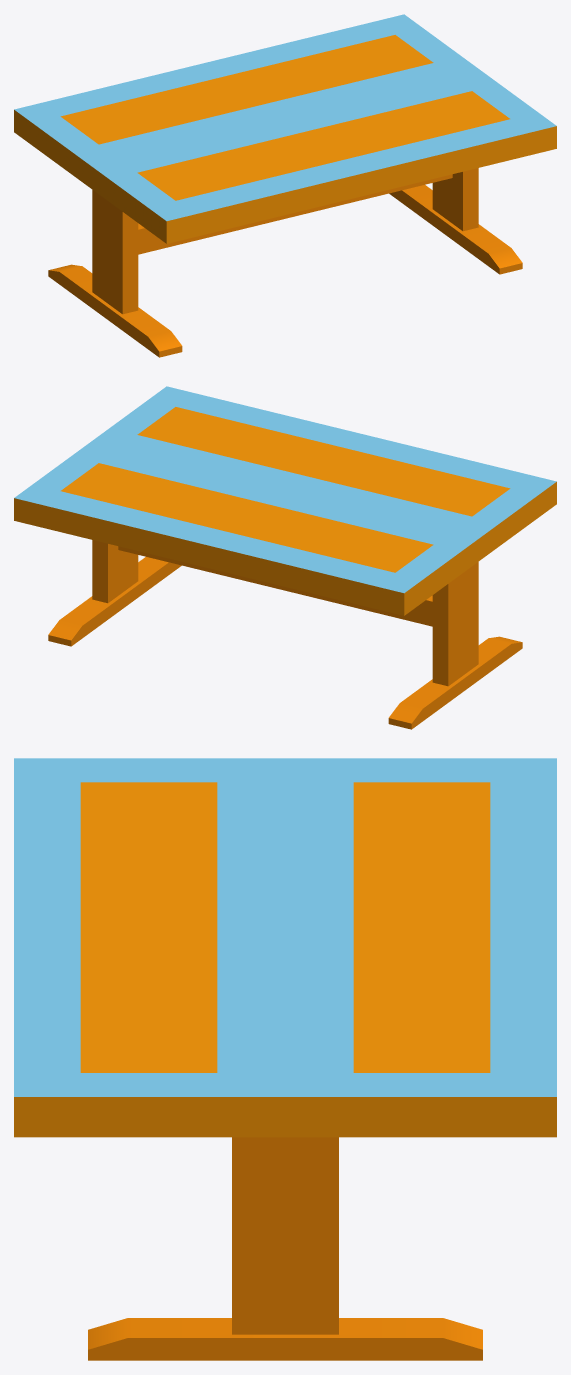
The model's file is Small_Table_lv3.fbx.
3 renders of one model, top to bottom at view 1: azimuth 30°, elevation 25°; view 2: azimuth 150°, elevation 25°; view 3: azimuth 270°, elevation 25°, orthographic. The views are drawn at different scales.
Visible parts, largest first — view 1: Small_Table_lv3; view 2: Small_Table_lv3; view 3: Small_Table_lv3.
Part boxes in pixels (left/top/right/bottom): Small_Table_lv3: left=14, top=14, right=556, bottom=357; Small_Table_lv3: left=14, top=386, right=556, bottom=729; Small_Table_lv3: left=14, top=758, right=556, bottom=1360.
Size of the model in its own units: 300 by 114 by 203.
